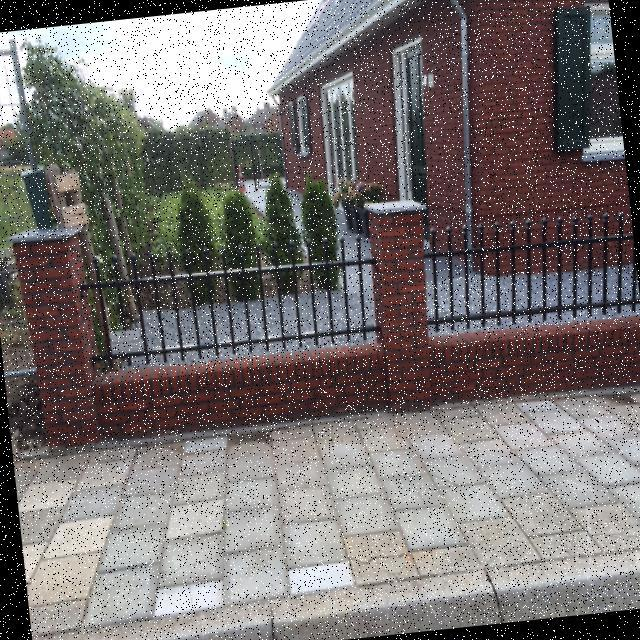fence line: (64, 237, 383, 395), (385, 207, 638, 358)
